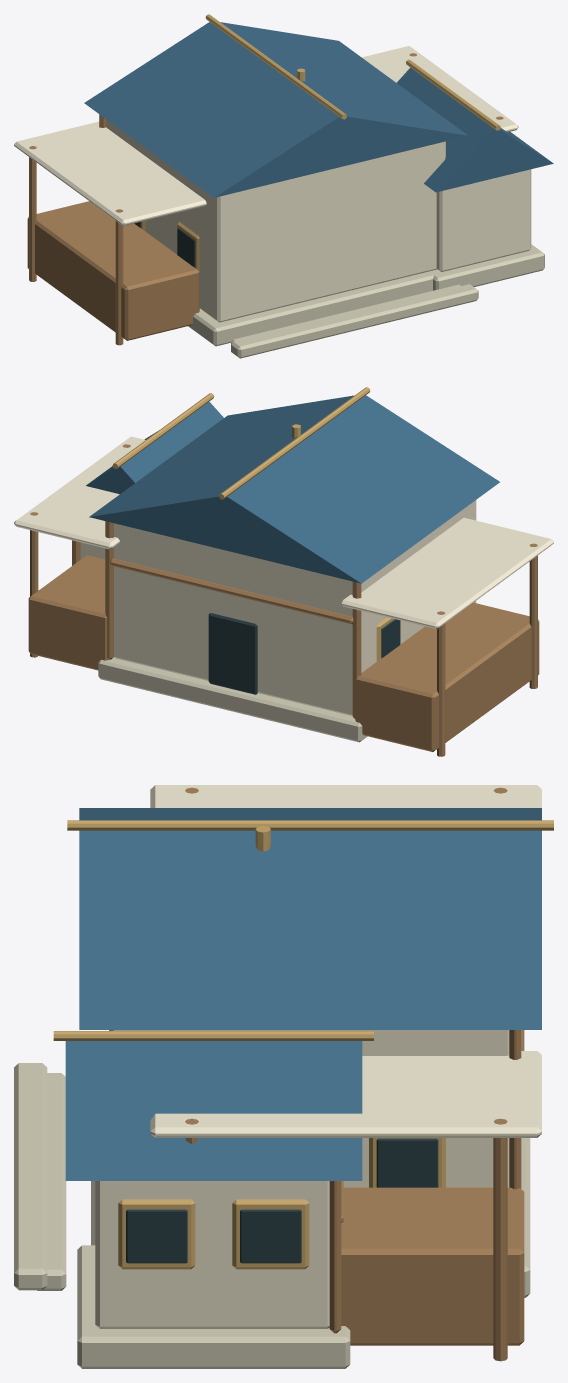
The model's file is level_14.glb.
The picture shows the model from 3 angles, top to bottom: view 1: azimuth 30°, elevation 25°; view 2: azimuth 150°, elevation 25°; view 3: azimuth 270°, elevation 25°; orthographic projection. The views are drawn at different scales.
Parts seen in each view (by area): view 1: market — level 14; view 2: market — level 14; view 3: market — level 14.
Boxes of the visible parts, box(x1,y1,x2,y2) form: market — level 14: box(14, 14, 553, 358); market — level 14: box(14, 387, 553, 756); market — level 14: box(14, 785, 553, 1368).
Bounding box in the file's own units: 7.08 × 3.47 × 4.55.
